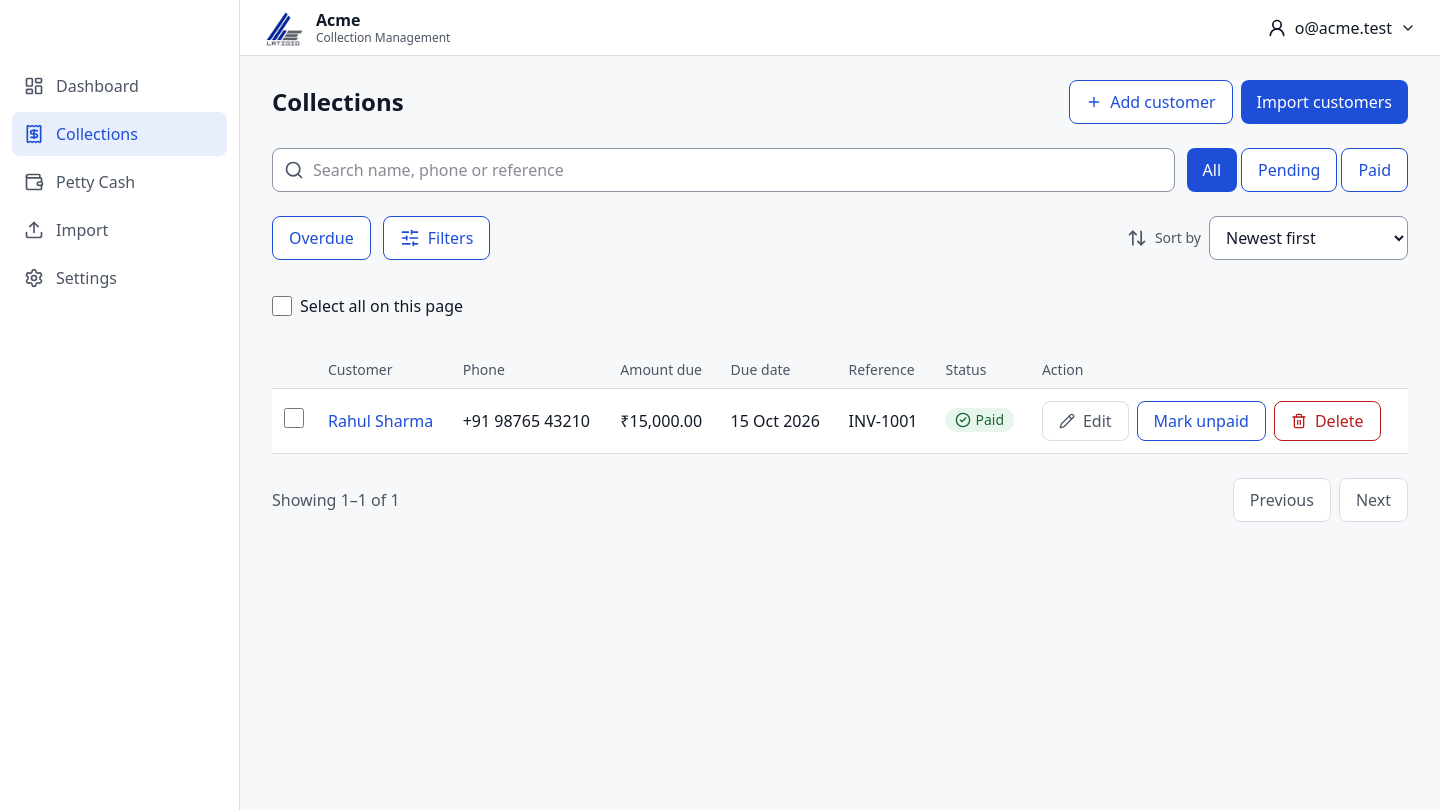
Test: Collections list extras › marks a paid customer unpaid from the list after confirming
Click the button with aria-label "Mark unpaid for Rahul Sharma" at (1201, 421), box [1136, 401, 1266, 441]
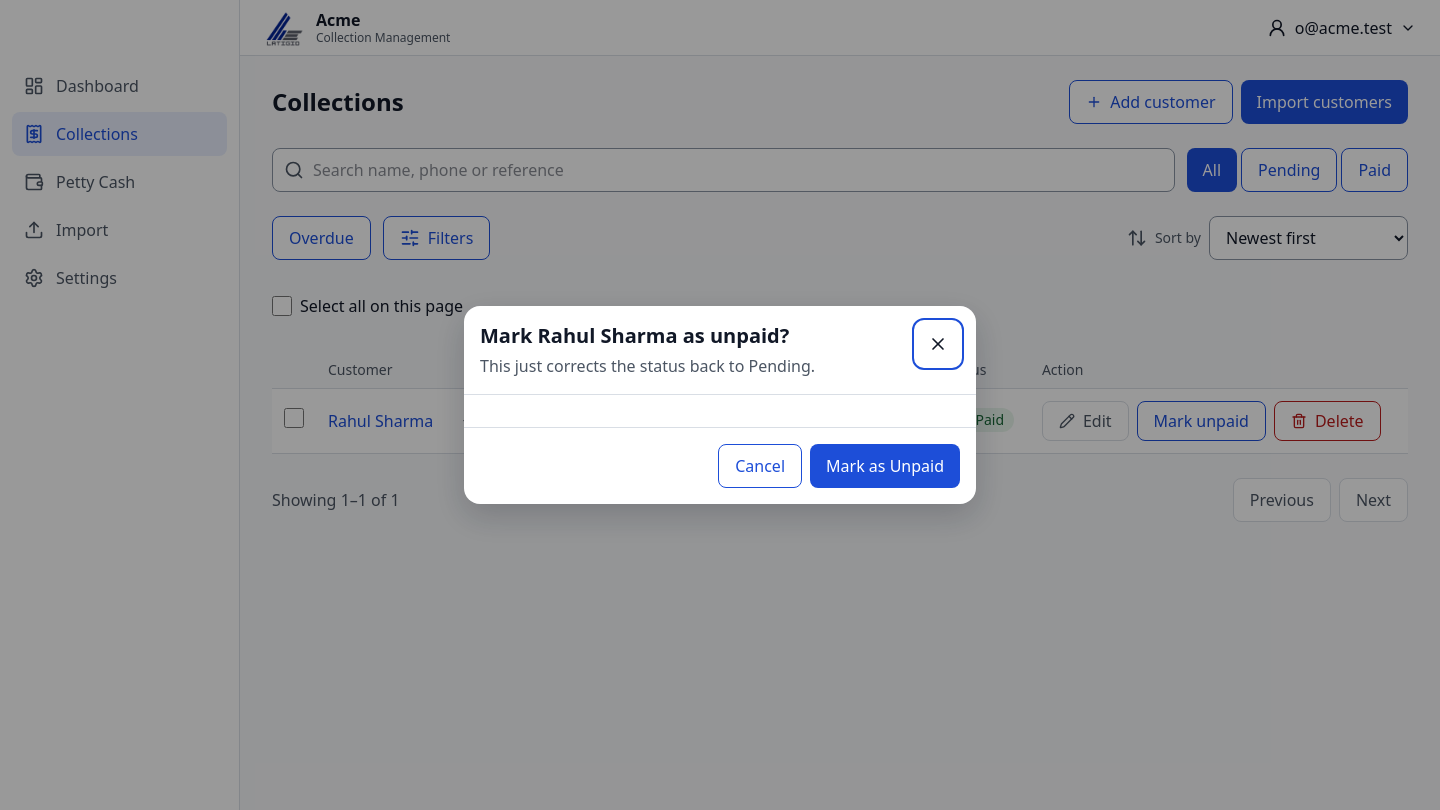
Click the button "Mark as Unpaid" at (885, 466), box [810, 444, 960, 488]
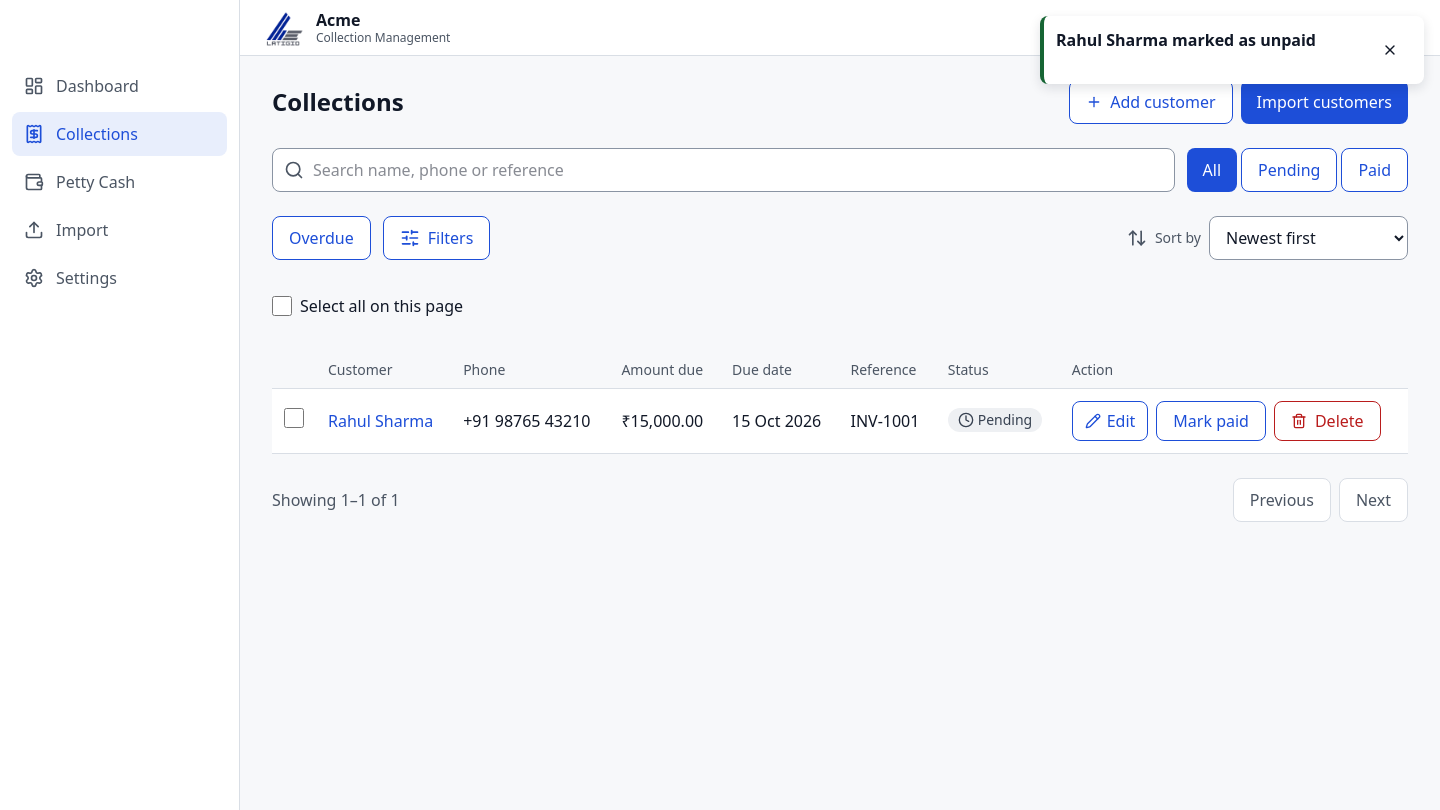
Check: the button with aria-label "Mark paid for Rahul Sharma" is shown, box [1156, 401, 1266, 441]
